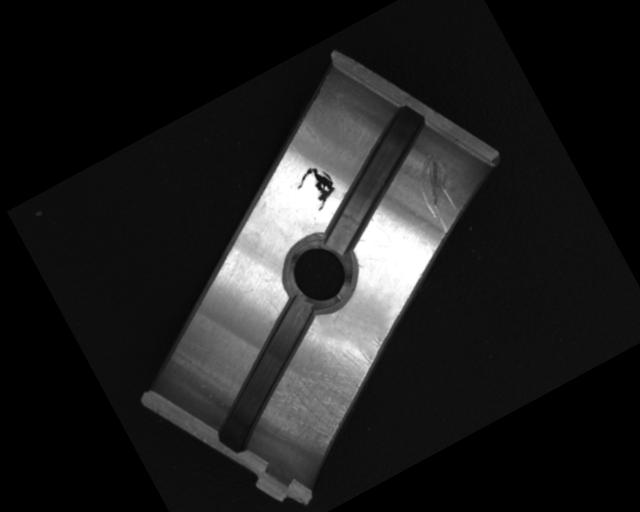blot: (290, 159, 346, 221)
gap: (177, 291, 357, 458), (286, 101, 462, 258)
hole: (269, 222, 371, 325)
nick: (405, 148, 477, 237)
scratch: (246, 323, 417, 473)
